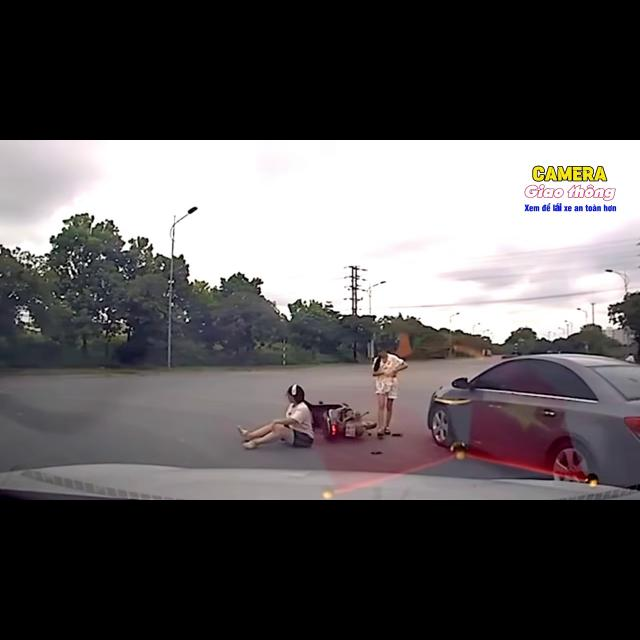car: (427, 354, 639, 486)
motorcycle: (310, 398, 378, 449)
